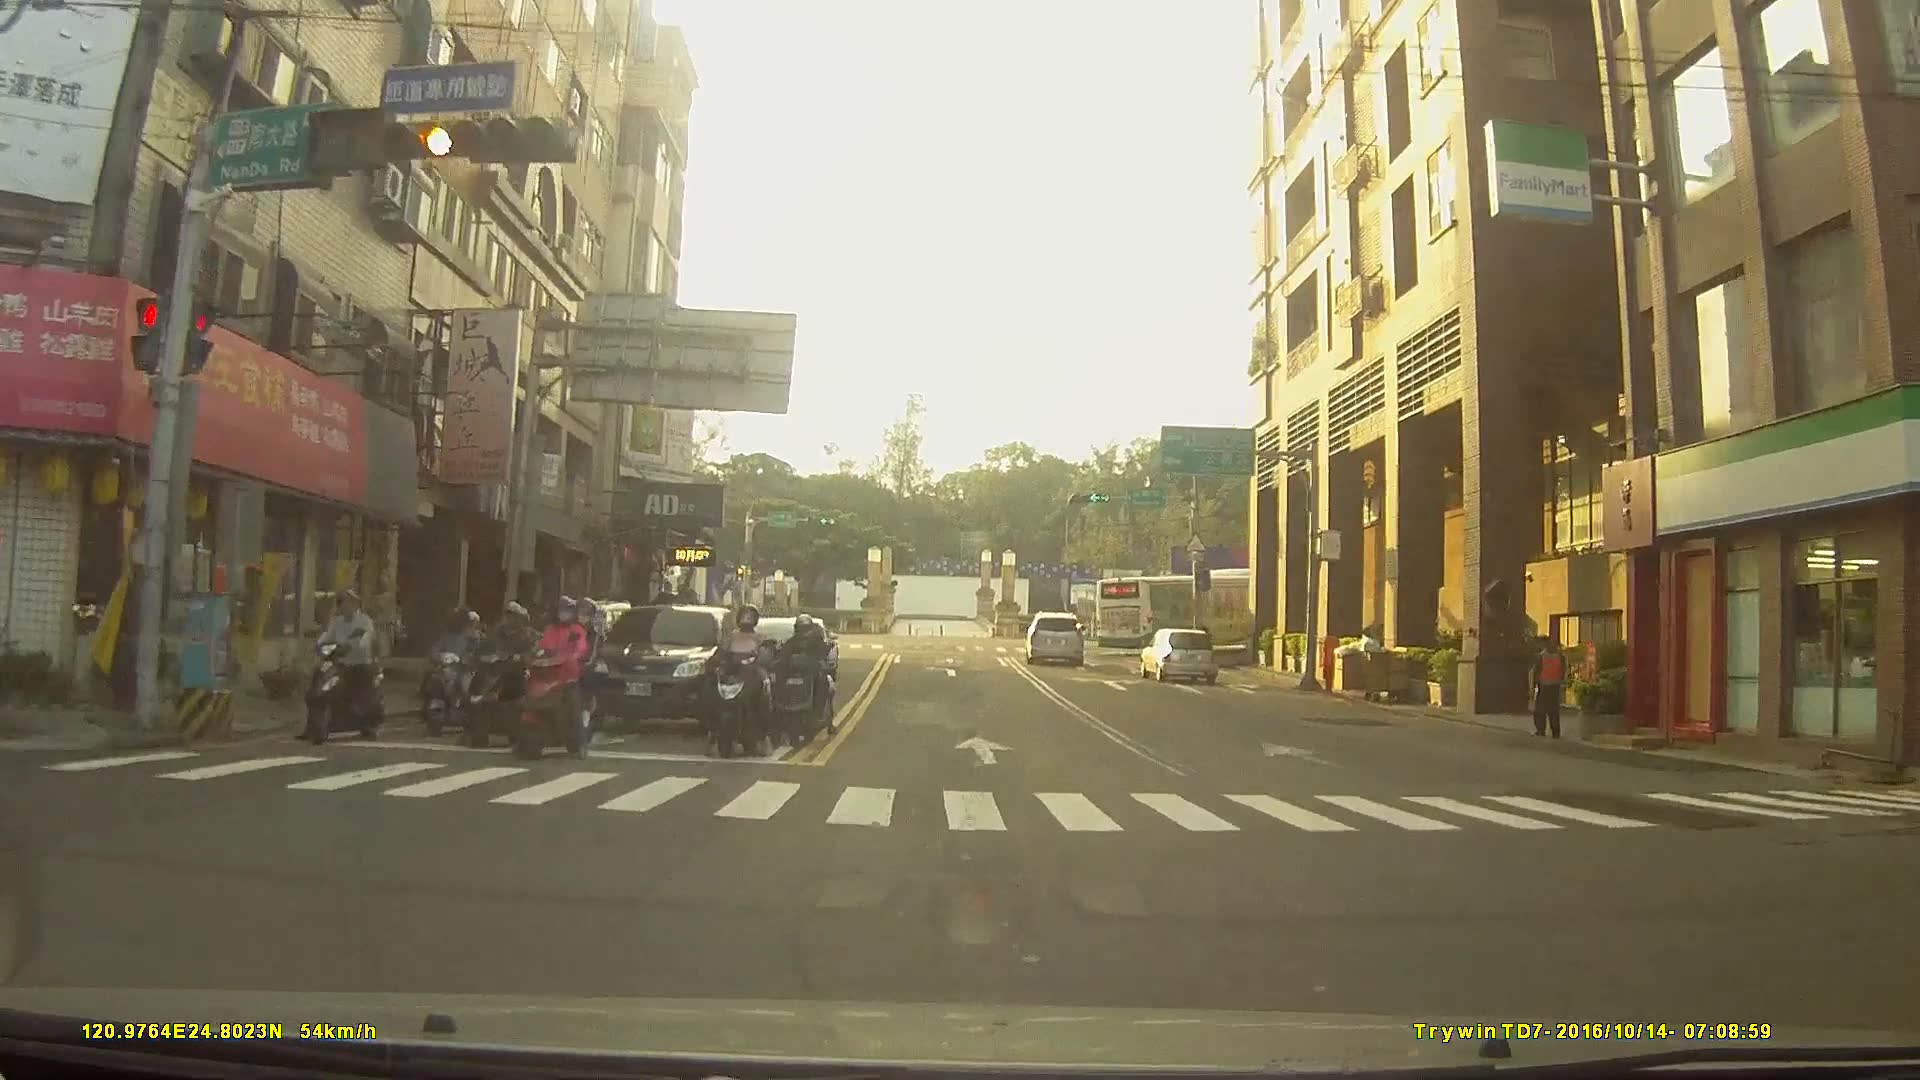pedestrian: (1522, 637, 1577, 748)
rider: (508, 594, 603, 765), (306, 593, 388, 748), (457, 593, 539, 748), (709, 607, 781, 757), (421, 607, 493, 735), (765, 615, 832, 748)
vehicle: (577, 600, 746, 732), (1094, 562, 1298, 660), (1137, 628, 1218, 685), (1022, 608, 1083, 661)
